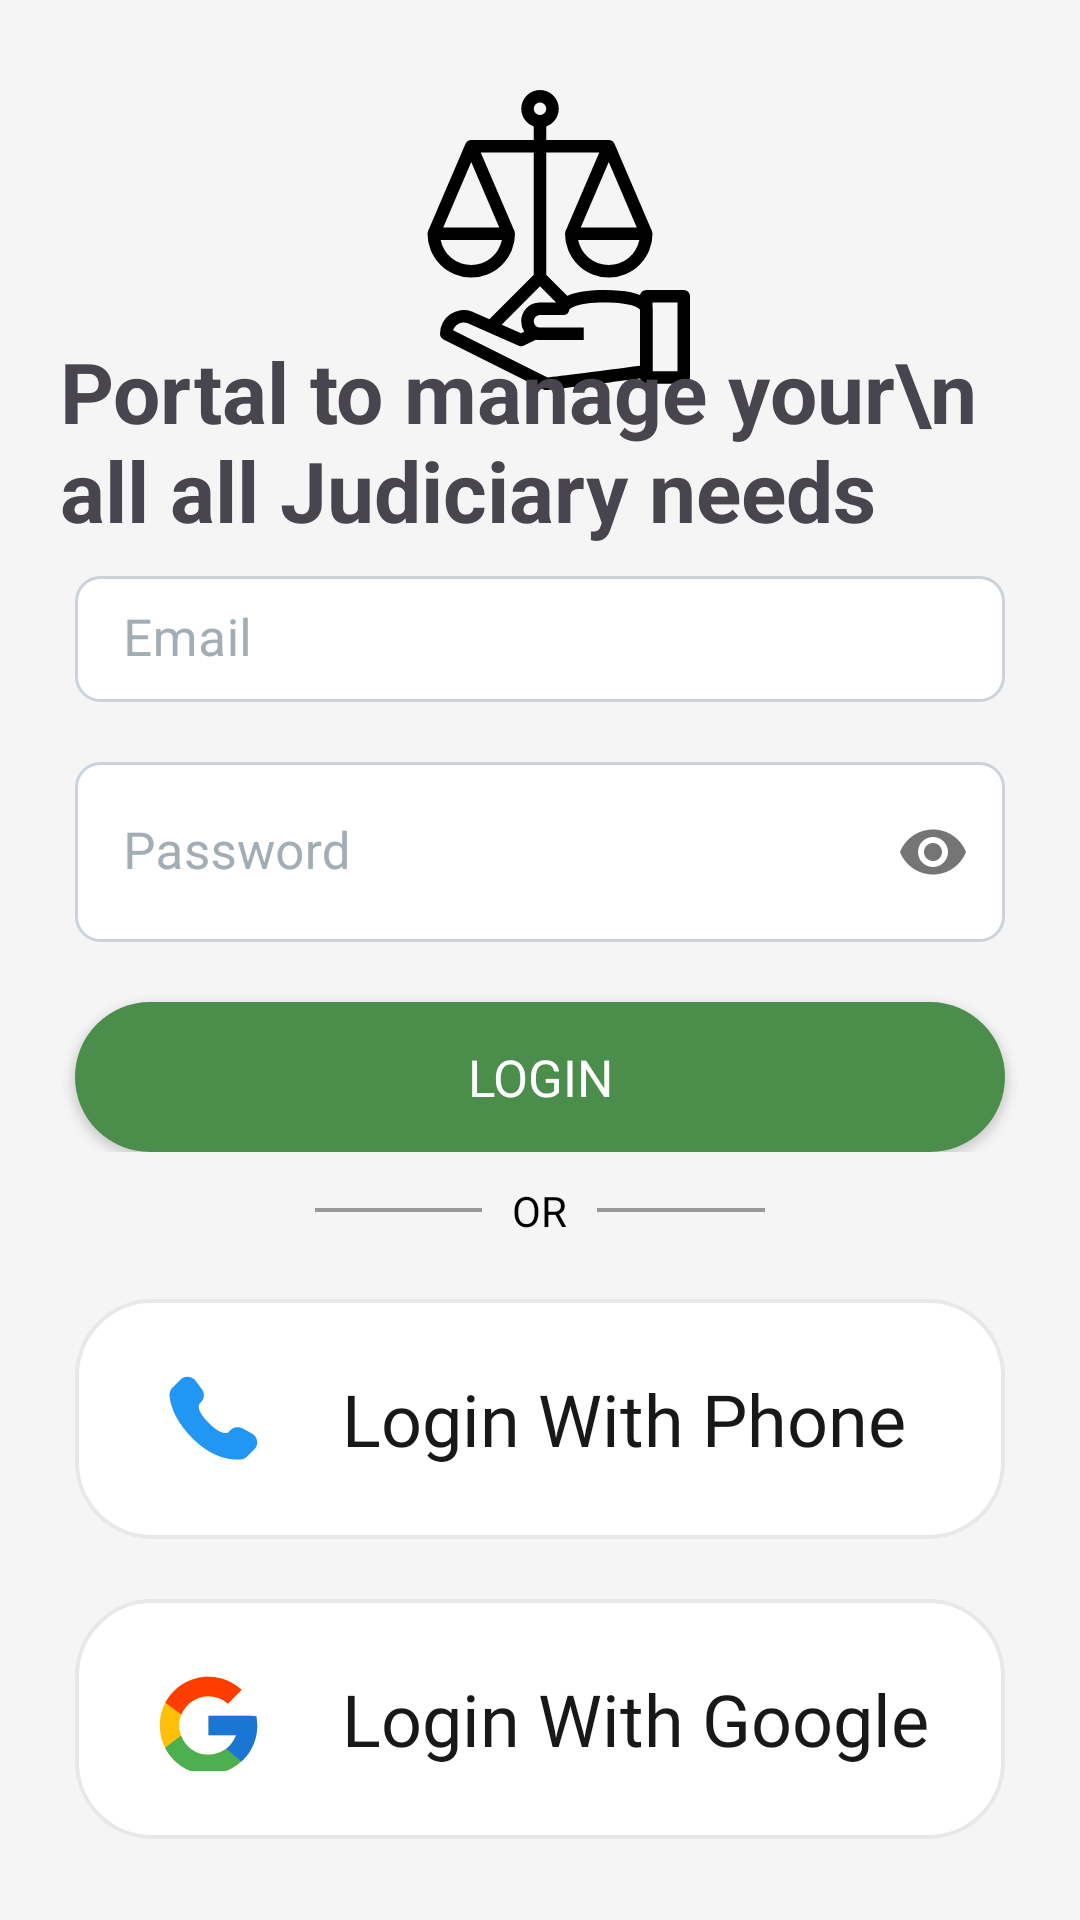

Where to tap for icons on this 1080 x 1920 app screen, as [x,y]:
law: [549,240]
